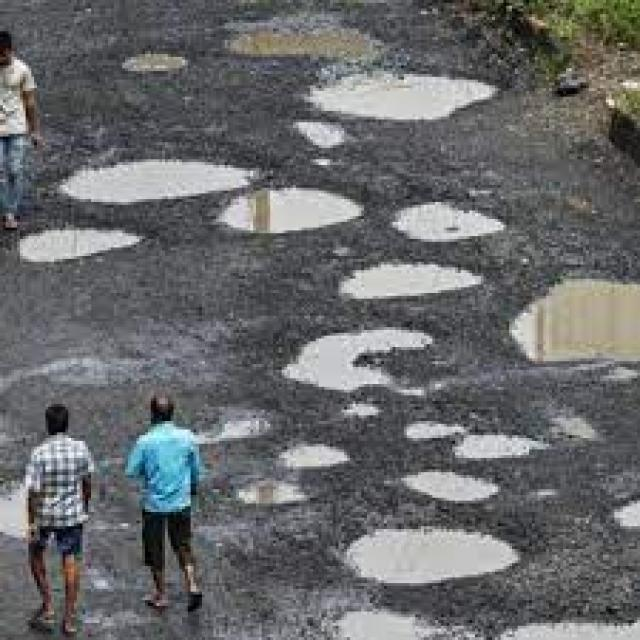Pothole: (512, 282, 640, 364), (282, 330, 432, 393), (344, 532, 518, 586), (60, 159, 247, 205), (313, 77, 495, 122), (219, 188, 361, 233), (338, 265, 481, 302), (393, 205, 503, 245)
